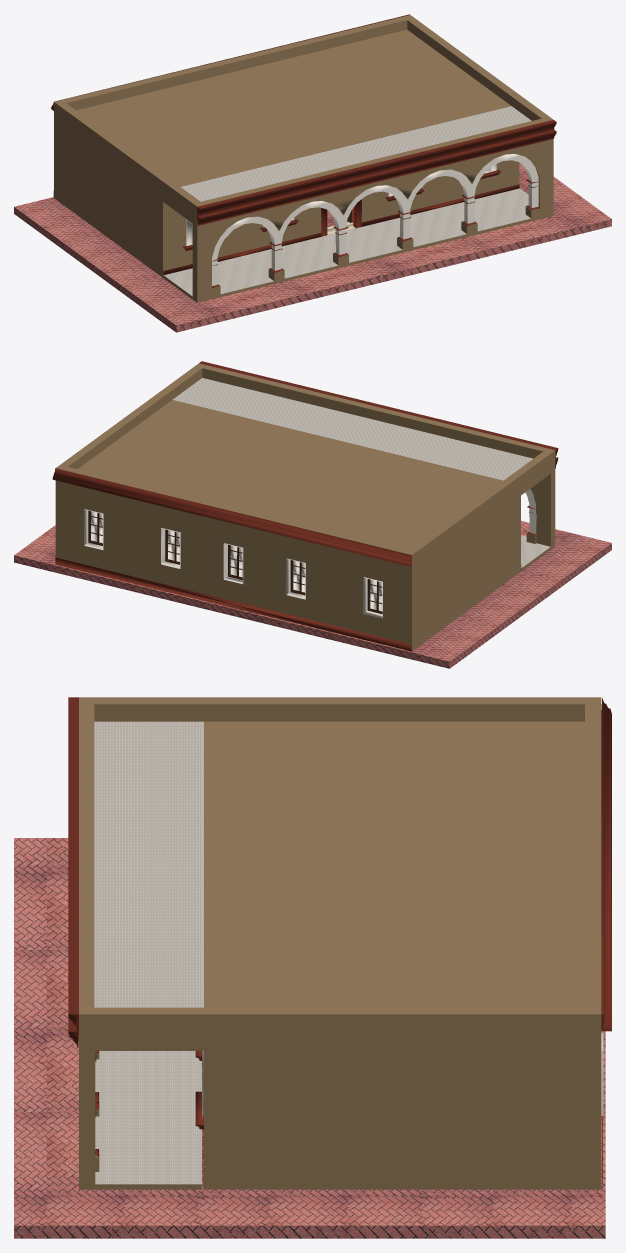
The model's file is TercerLarge_optim.obj.
3 renders of one model, top to bottom at view 1: azimuth 30°, elevation 25°; view 2: azimuth 150°, elevation 25°; view 3: azimuth 270°, elevation 25°, orthographic. The views are drawn at different scales.
Parts seen in each view (by area): view 1: Cube; view 2: Cube; view 3: Cube.
Part boxes in pixels (box(x1,y1,x2,y2)): Cube: box(14, 14, 611, 332); Cube: box(14, 361, 611, 668); Cube: box(14, 697, 611, 1238).
Bounding box in the file's own units: 22.61 × 5.13 × 14.75.
